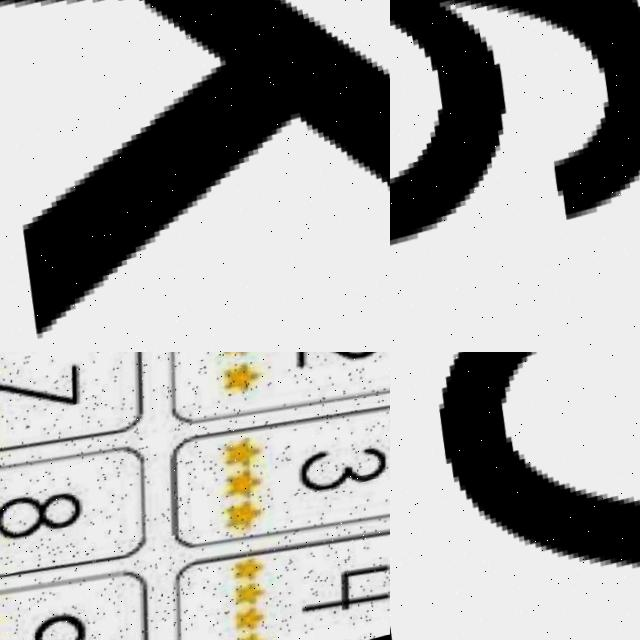0: (416, 352, 640, 640)
2: (285, 352, 390, 392)
3: (294, 439, 390, 519)
4: (299, 565, 390, 640)
6: (390, 0, 640, 327)
7: (0, 358, 86, 431)
8: (0, 484, 91, 556)
9: (0, 605, 95, 640)
K: (0, 0, 390, 352)
